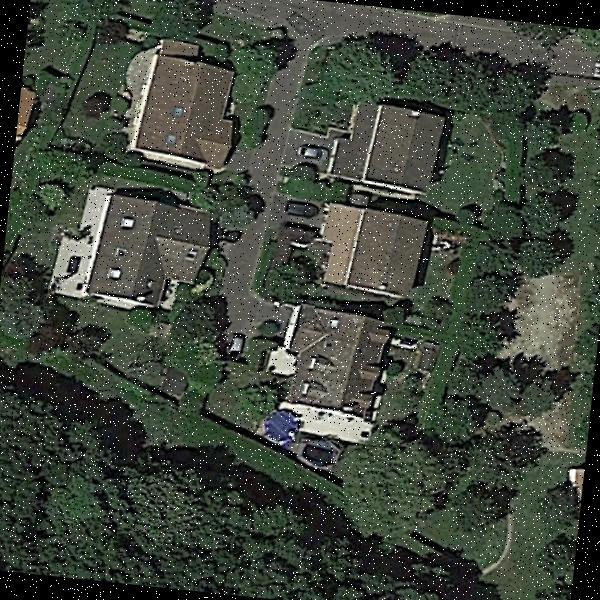Buildings: (128, 41, 242, 168), (81, 191, 203, 300), (274, 309, 390, 423), (323, 97, 453, 193), (314, 202, 430, 298)
